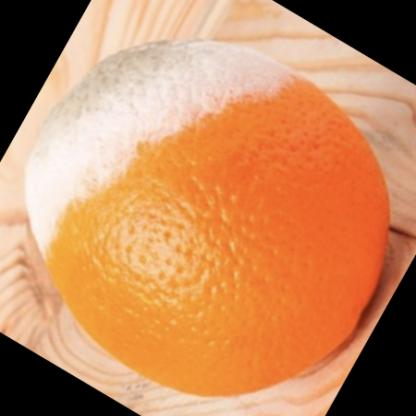rotten: (28, 42, 391, 395)
